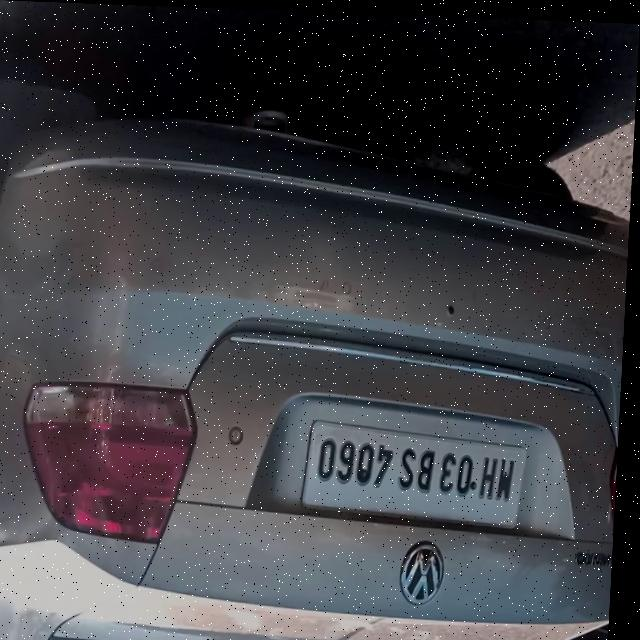plate: (298, 406, 537, 532)
